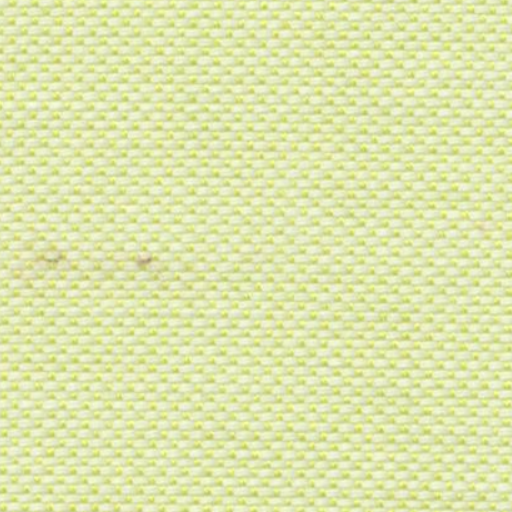WuZi: (29, 226, 188, 298)
